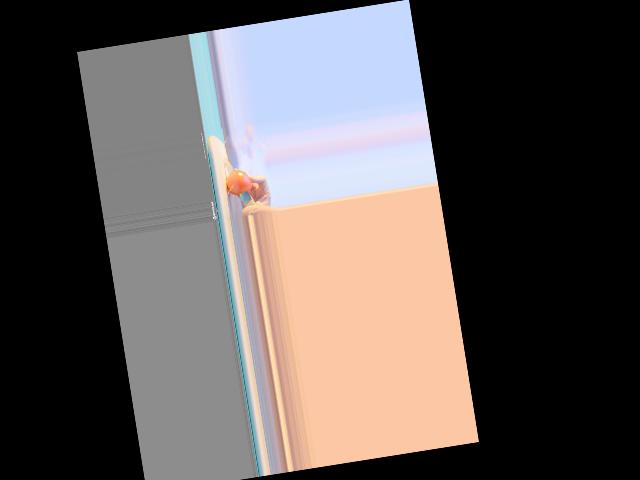tomato: (224, 167, 252, 197)
